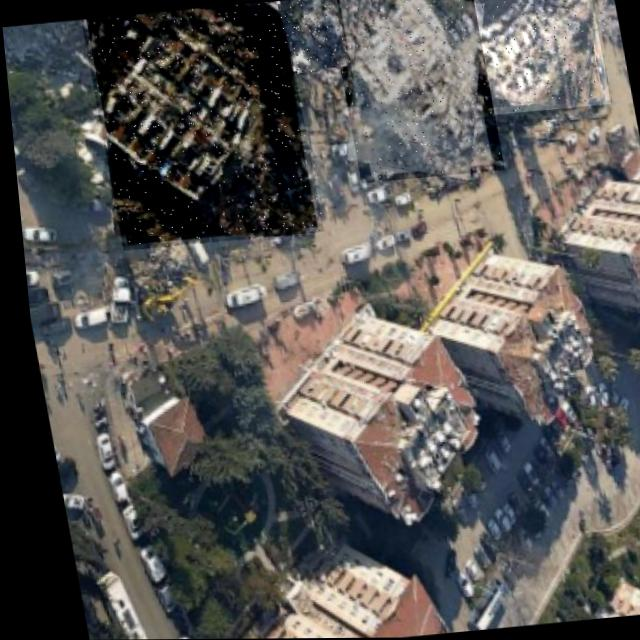Rubble: (78, 0, 319, 251), (326, 0, 501, 183), (456, 0, 608, 116), (277, 0, 347, 73), (591, 0, 620, 38)
